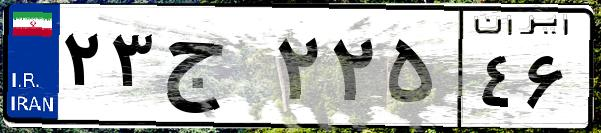2: (270, 28, 330, 110), (330, 28, 385, 110), (57, 26, 110, 100)
3: (110, 28, 158, 98)
4: (475, 38, 525, 113)
5: (385, 28, 445, 110)
6: (525, 38, 570, 115)
ج: (158, 20, 270, 120)
